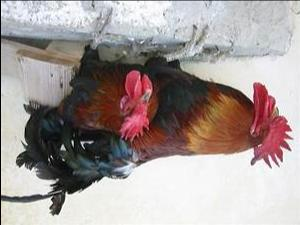hen: (1, 11, 294, 217)
